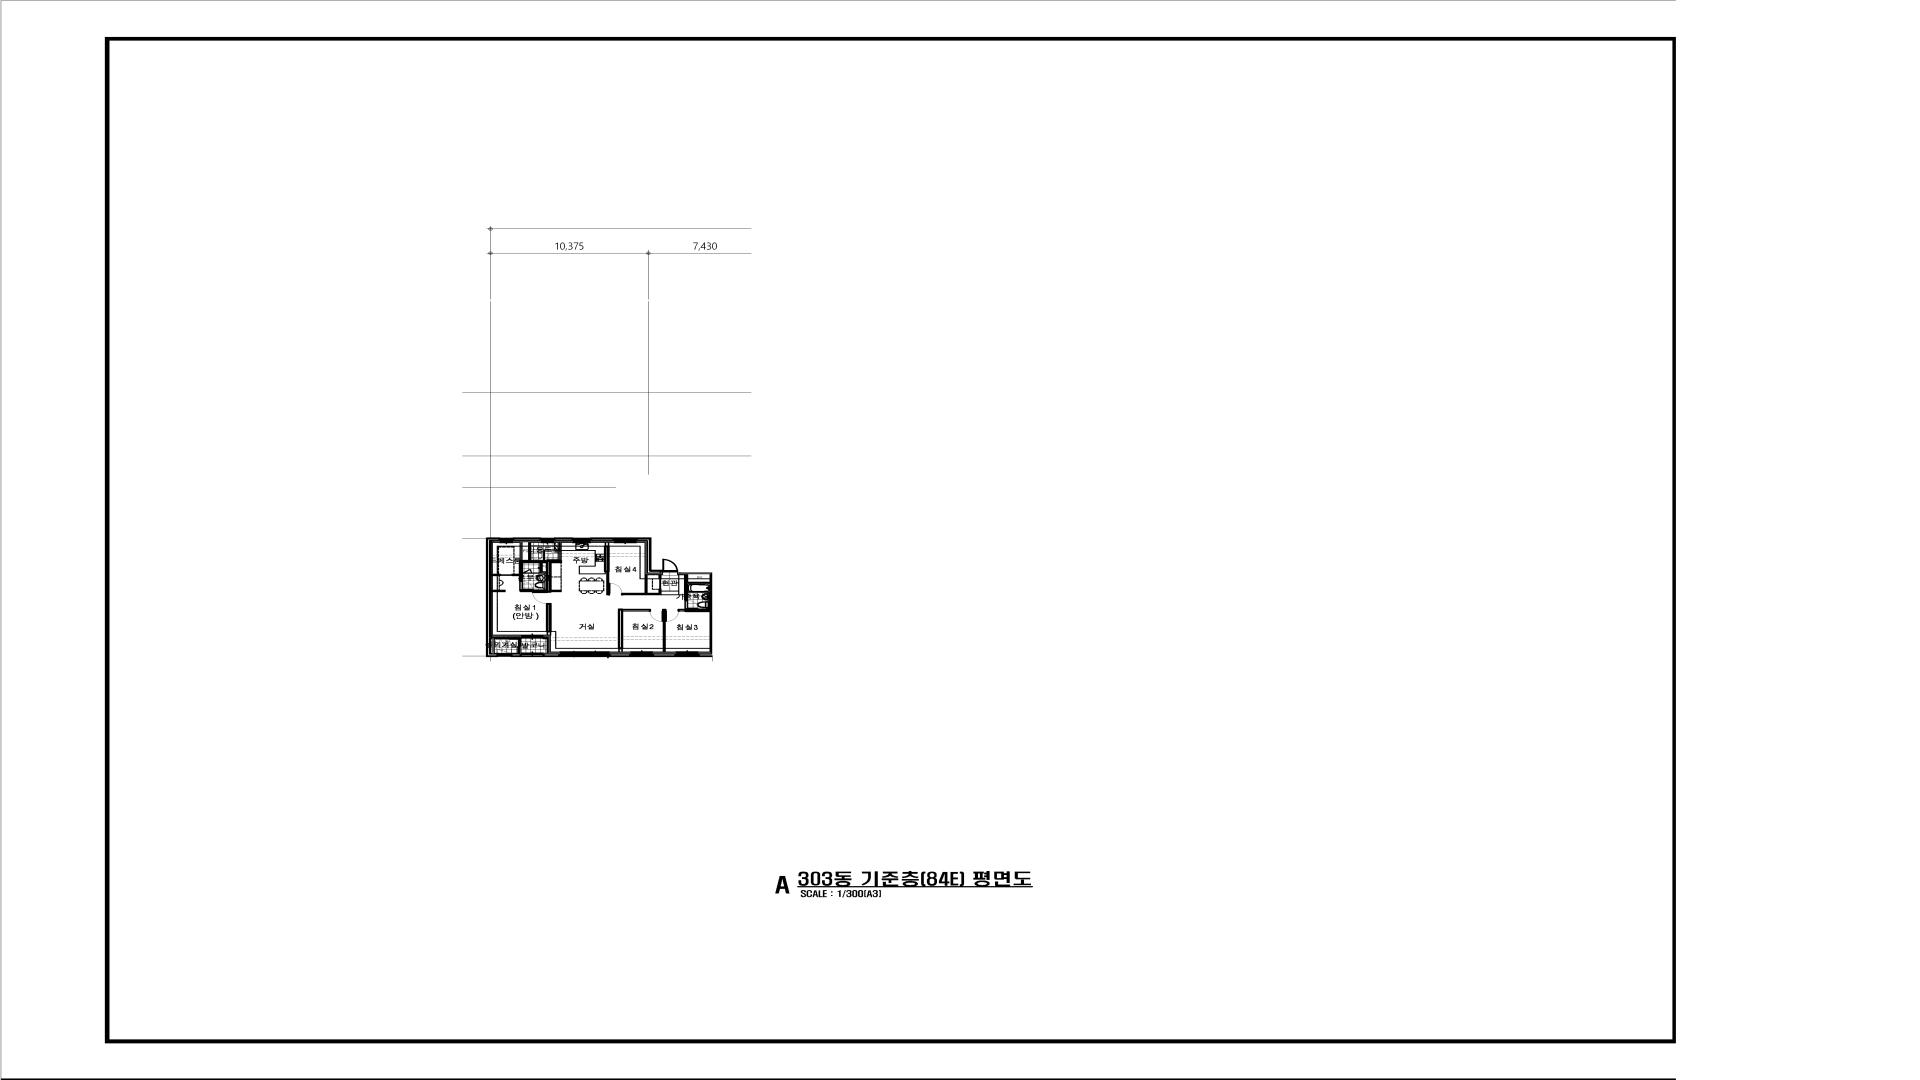door: (531, 592, 551, 604), (662, 559, 678, 572), (666, 609, 679, 622), (650, 609, 663, 622), (609, 583, 622, 595), (546, 551, 562, 560), (684, 600, 698, 609), (520, 582, 533, 589), (509, 640, 521, 646), (522, 570, 533, 574), (501, 575, 512, 576), (659, 579, 661, 589)
wall: (485, 538, 521, 657), (676, 572, 712, 657), (622, 541, 663, 595), (520, 542, 562, 592), (609, 609, 650, 654), (591, 541, 615, 595), (512, 541, 541, 582), (653, 609, 676, 654), (637, 538, 662, 572), (543, 604, 560, 654), (554, 541, 574, 551), (531, 563, 546, 574), (688, 575, 709, 582), (510, 646, 521, 657), (513, 538, 541, 541), (591, 538, 615, 541), (653, 654, 676, 657), (609, 654, 630, 657), (554, 538, 574, 541), (543, 654, 560, 657), (698, 651, 709, 654)
window: (560, 651, 609, 657), (630, 651, 653, 657), (615, 538, 637, 543), (676, 651, 699, 657), (574, 538, 591, 543), (521, 653, 543, 657), (521, 634, 543, 638), (500, 538, 513, 543), (541, 538, 554, 543), (497, 653, 510, 657)
